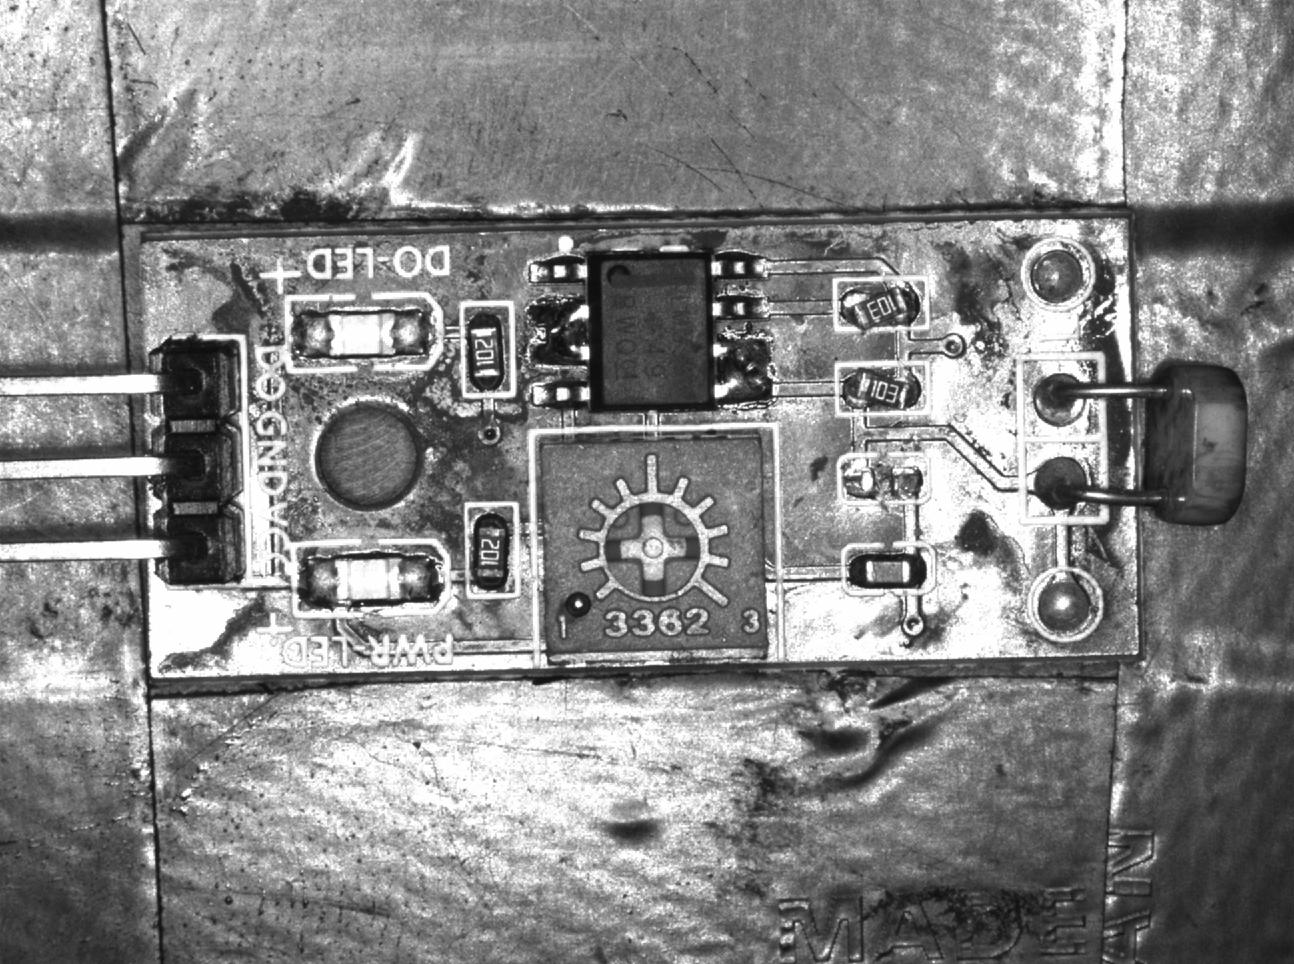bridge: (529, 295, 587, 370), (716, 336, 775, 404)
lifted: (835, 278, 931, 330), (837, 361, 929, 414)
miss: (838, 454, 931, 504)
ok: (465, 501, 521, 604), (462, 301, 513, 394), (841, 544, 936, 592)
